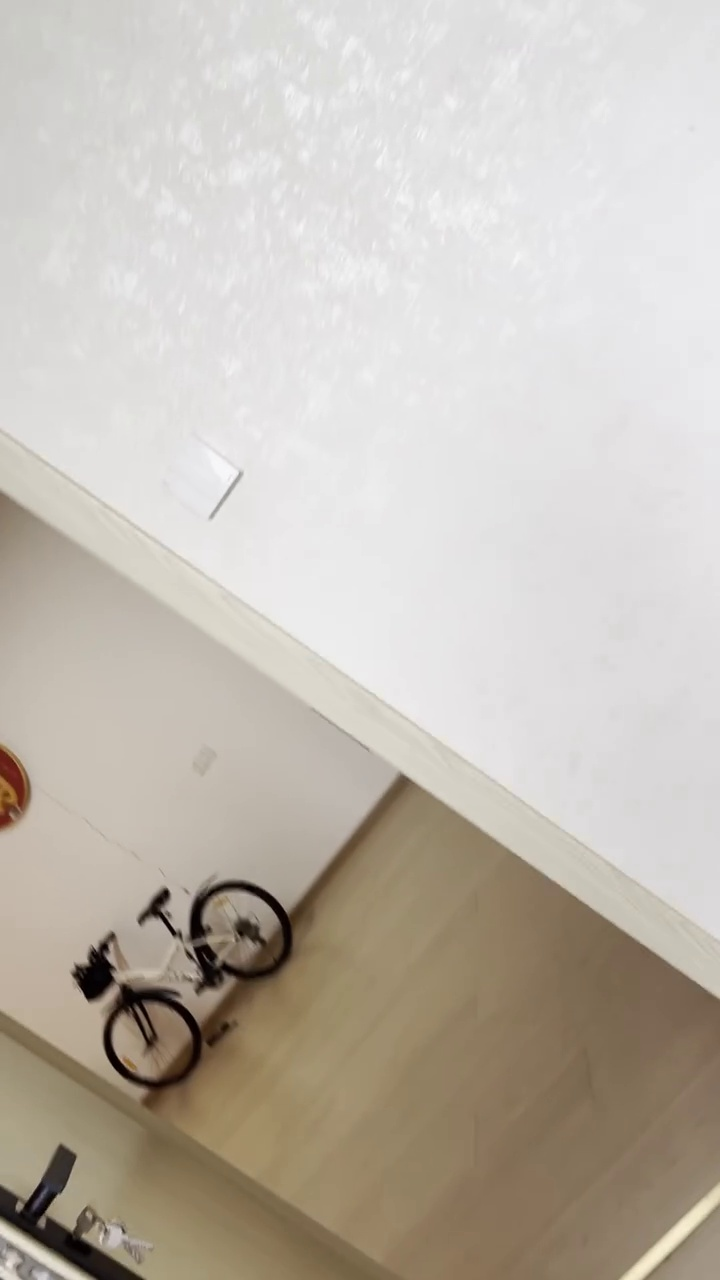button: (150, 432, 249, 521)
